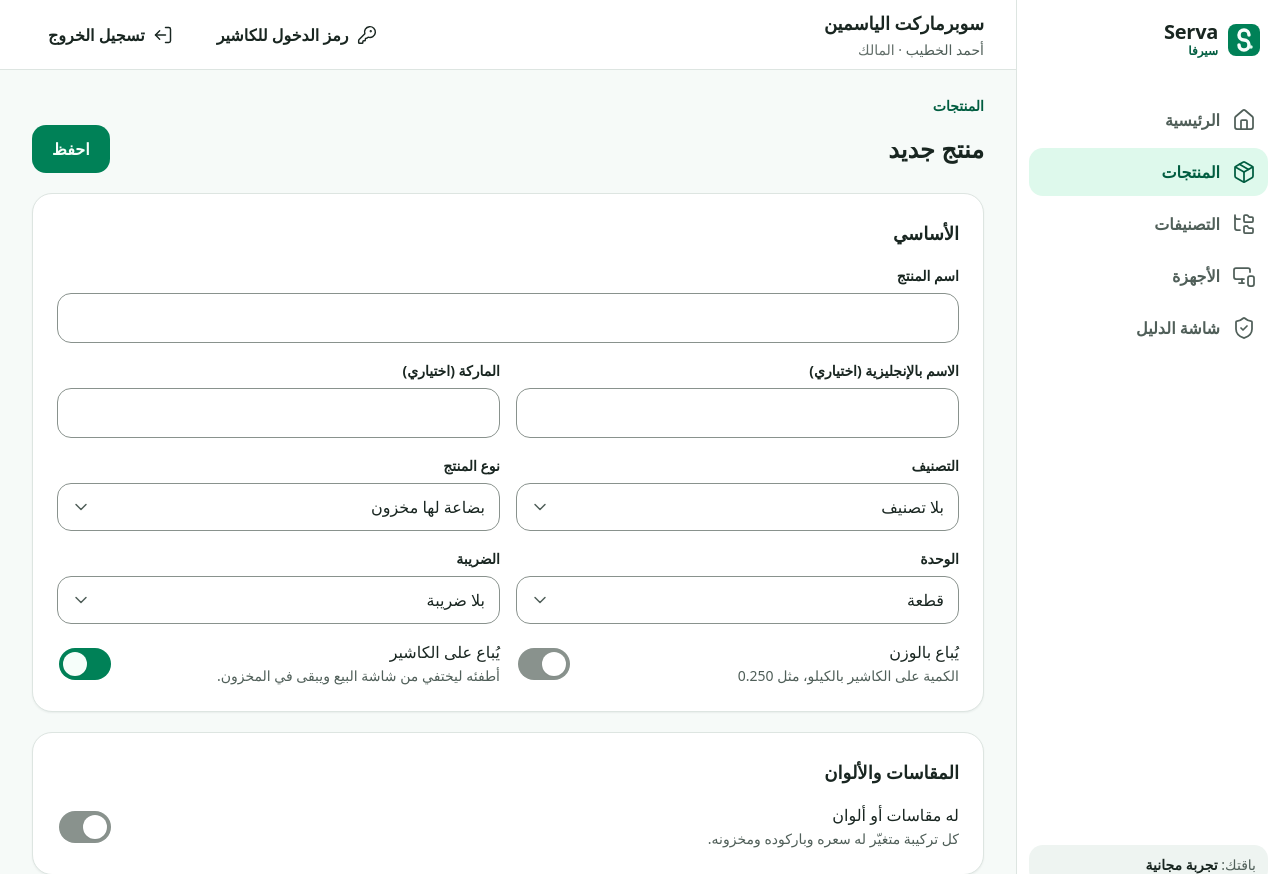
Test: a new product › saves the name, category, price and barcodes in one request, then opens the saved card
The image size is (1280, 874).
Expected: the heading "منتج جديد" is shown, [888,131,984,167]
Type "سكر أبيض 1 كغ" into the field labelled "اسم المنتج" at (508, 318), box [58,294,958,342]
Select "ألبان وأجبان" in the dropdown labelled "التصنيف" at (738, 507), box [516,483,959,531]
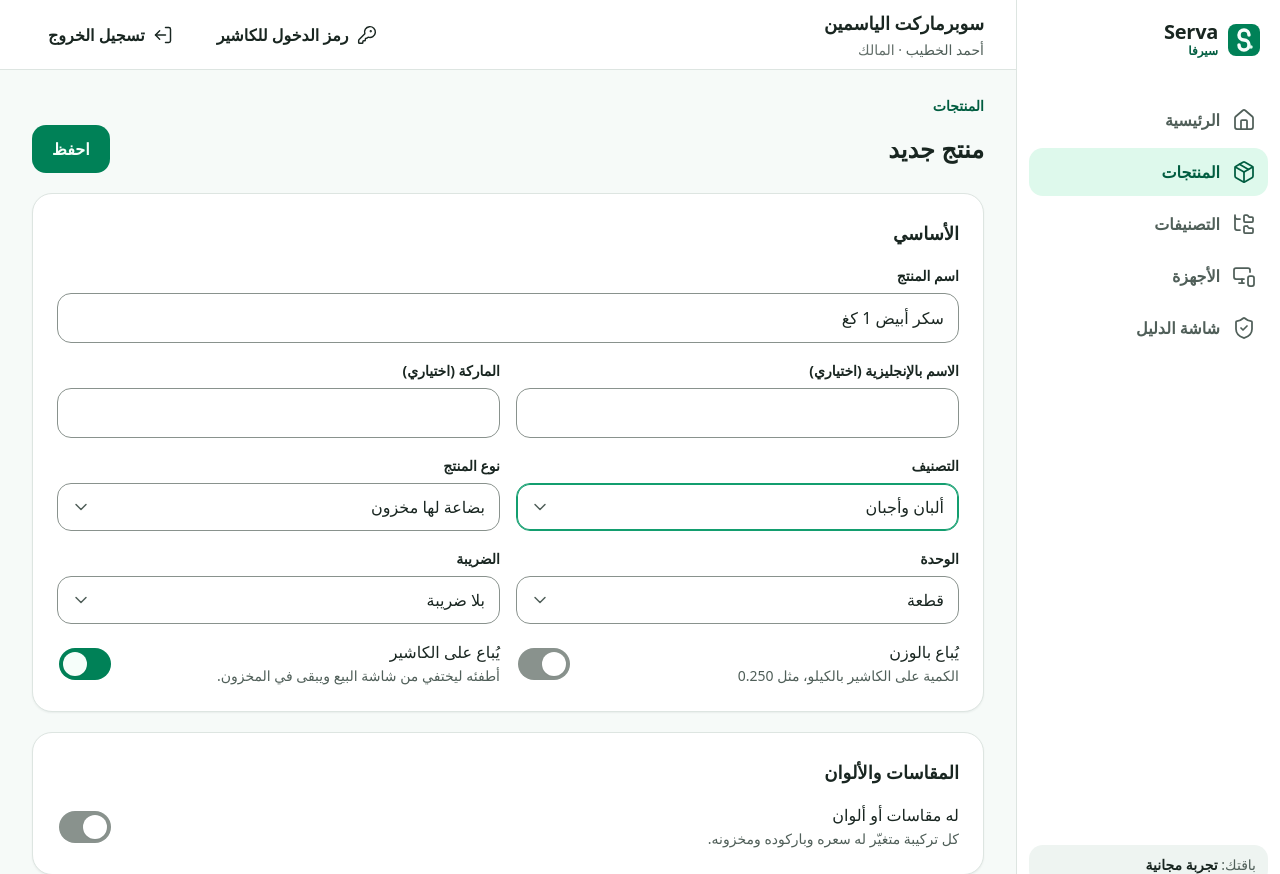
Select "رسم الاستهلاك 5%" in the dropdown labelled "الضريبة" at (278, 600), box [57,576,500,624]
(page scrolled)
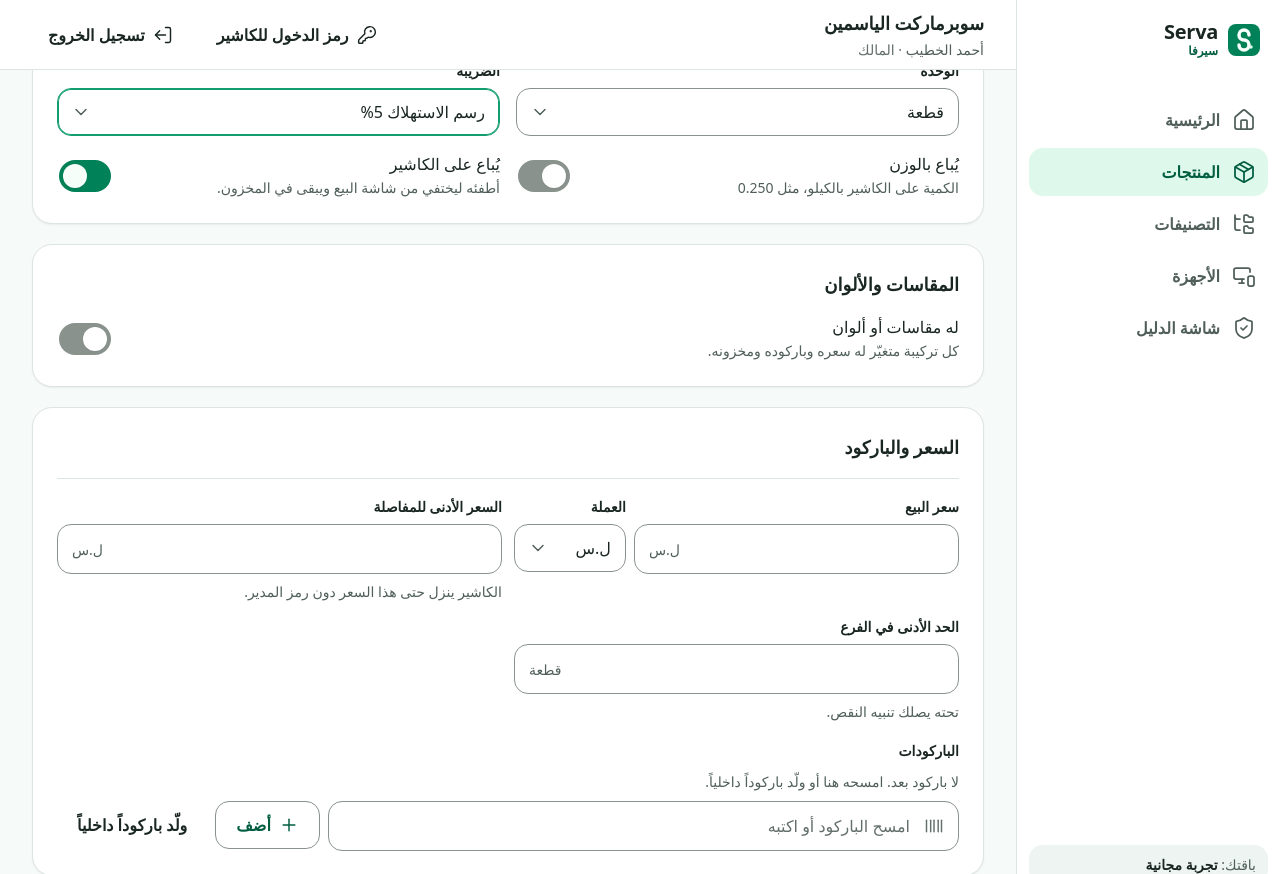
Type "120" into the field labelled "سعر البيع" at (819, 549), box [680,525,958,573]
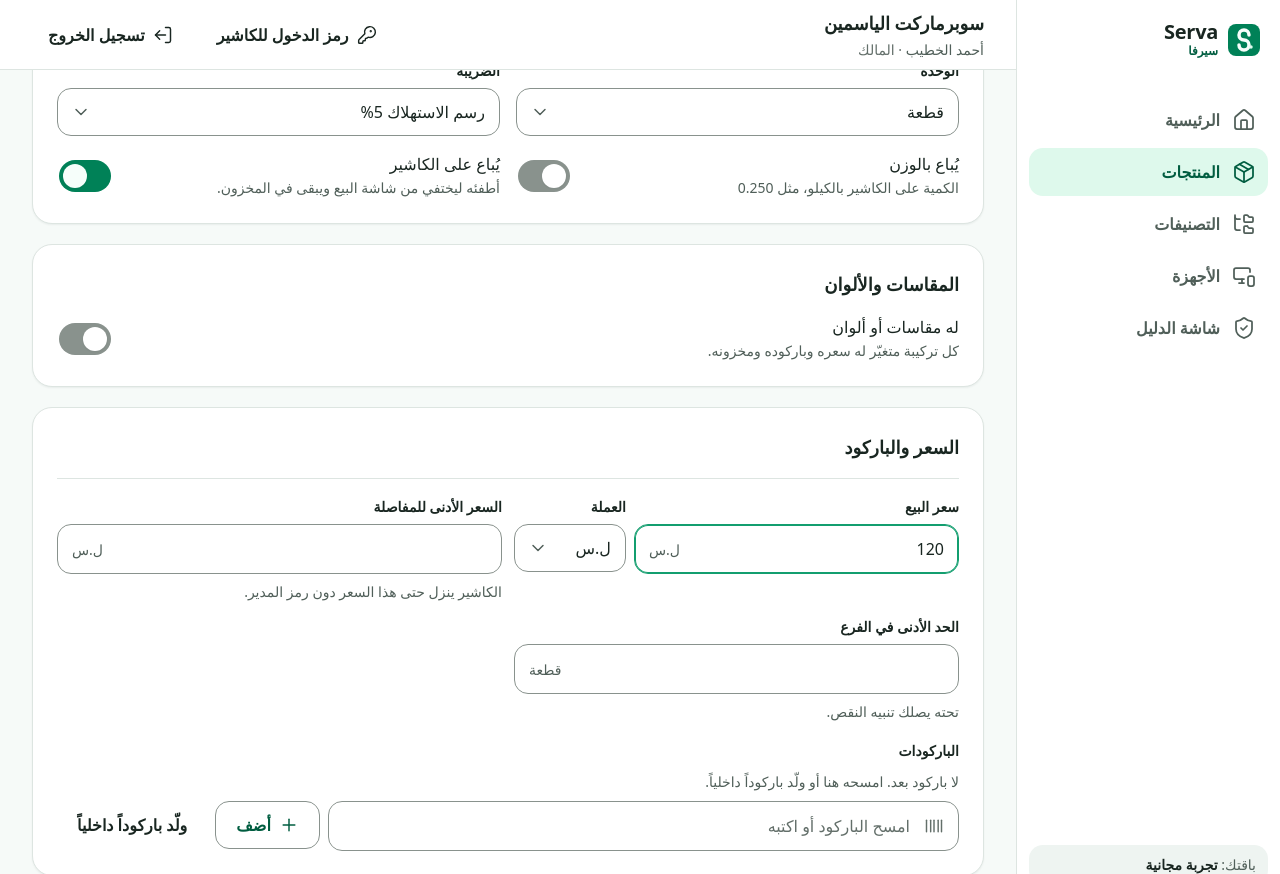
# The scanner types into the barcode field and ends with Enter.
Type "6290360100125" into the field named "باركود جديد" at (626, 826), box [329,802,924,850]
Then press Enter
(page scrolled)
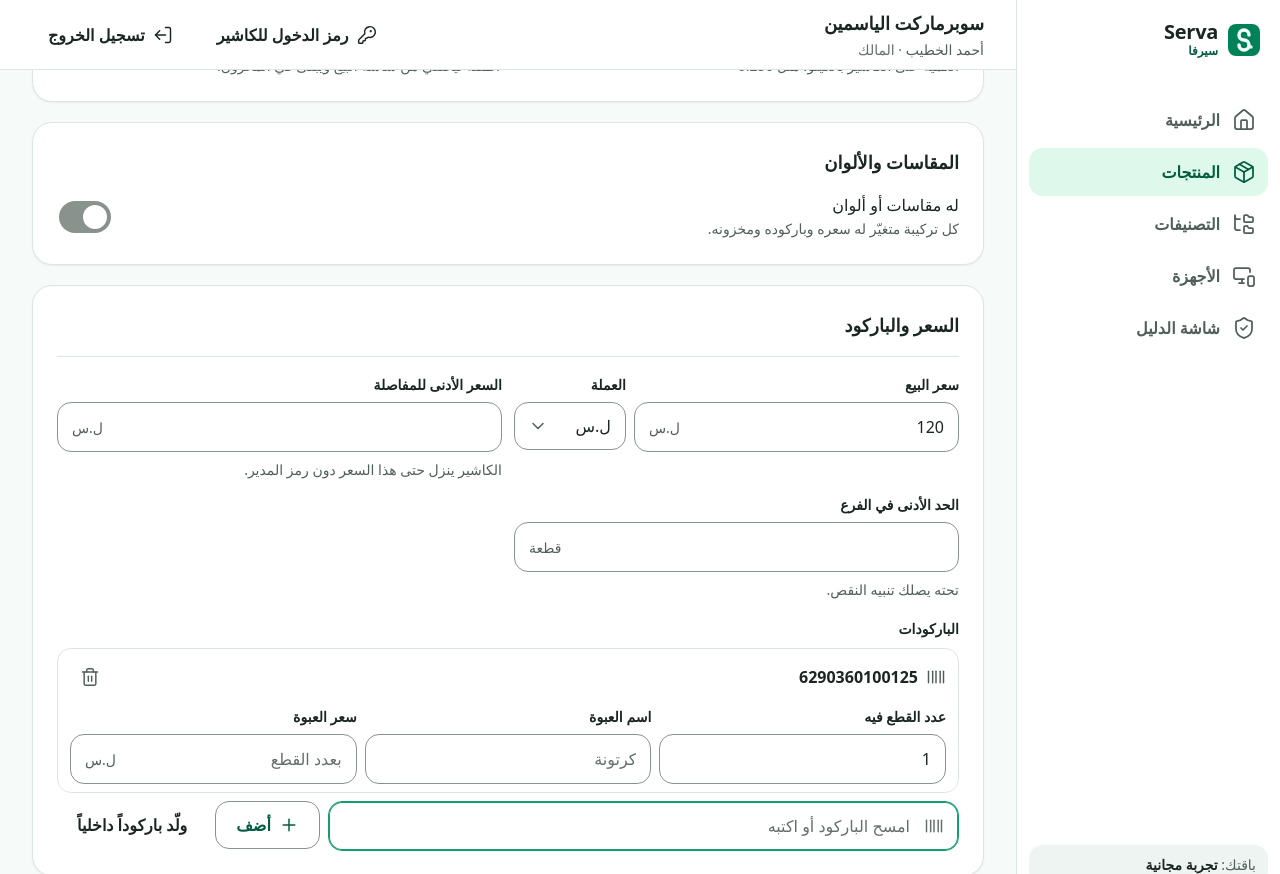
Now the text "6290360100125" is shown, box [799,665,918,689]
Click the button "ولّد باركوداً داخلياً" at (132, 825), box [57,801,207,849]
(page scrolled)
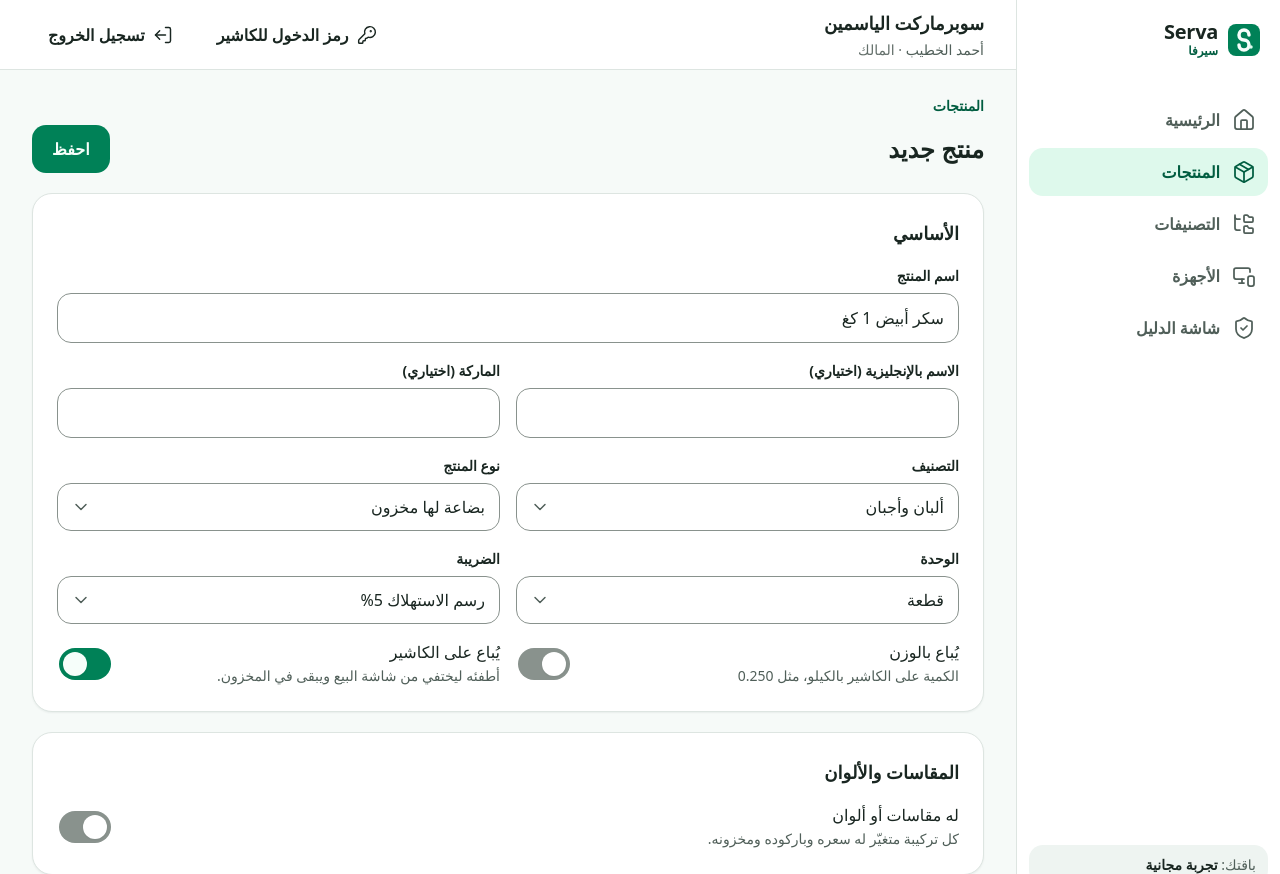
Click the button "احفظ" at (71, 149), box [32,125,110,173]
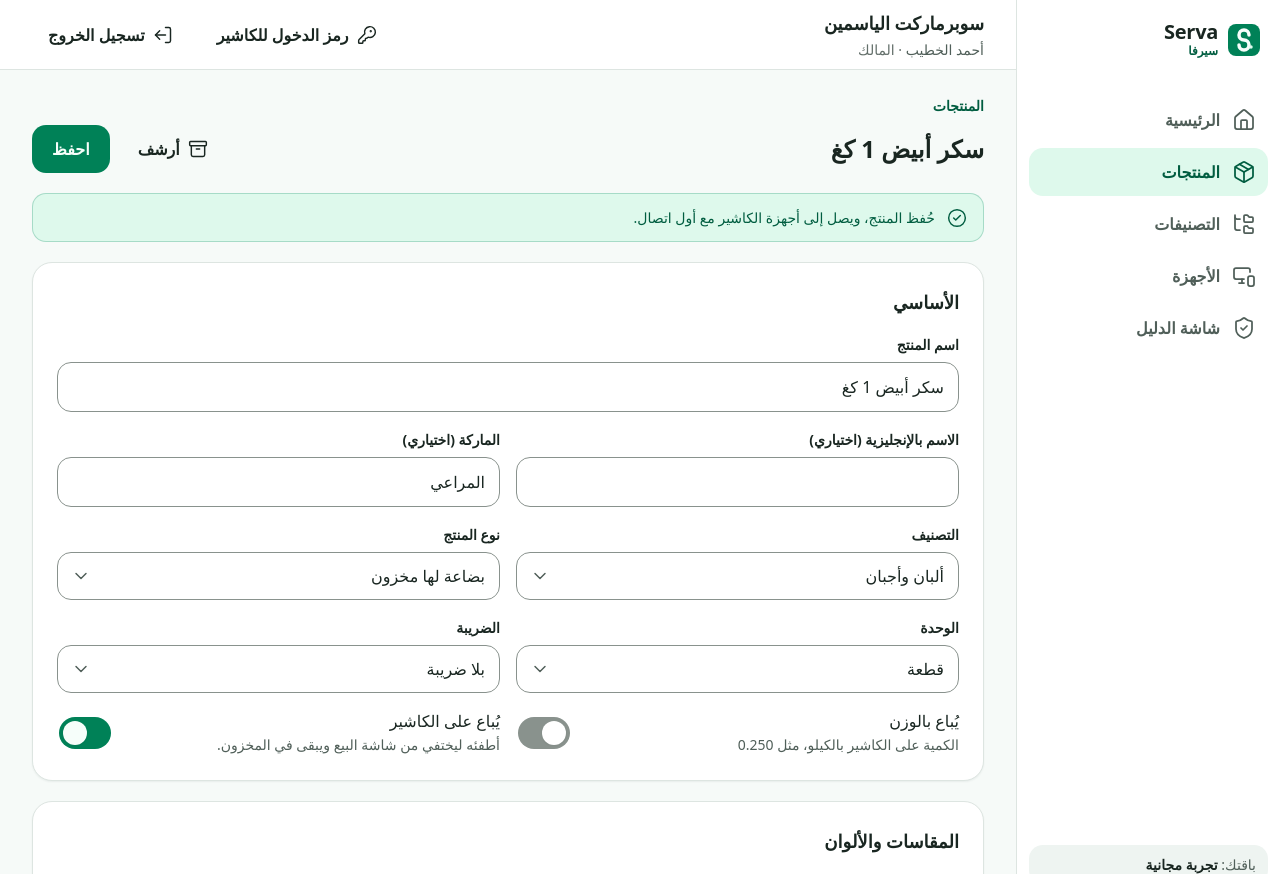
Now the text "حُفظ المنتج، ويصل إلى أجهزة الكاشير مع أول اتصال." is shown, box [634,206,935,229]
Now the heading "سكر أبيض 1 كغ" is shown, box [831,131,984,167]
